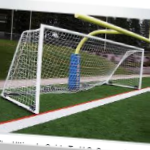goals: (2, 23, 145, 114)
